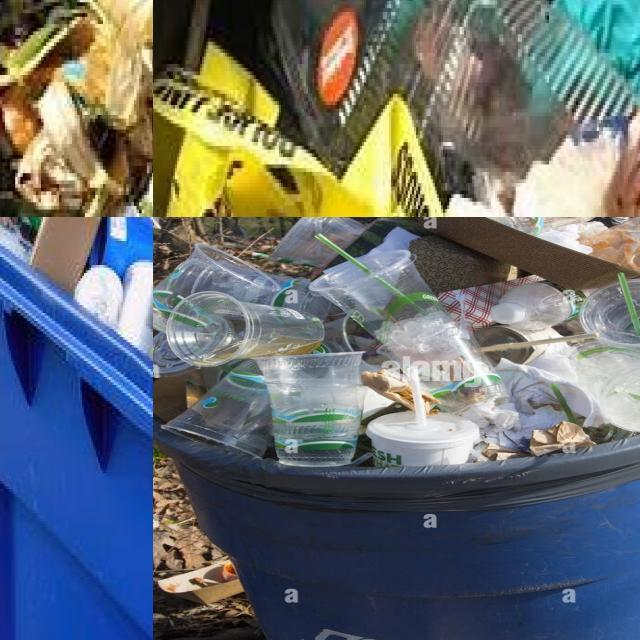Disposable: (270, 0, 632, 179), (312, 250, 490, 378), (153, 244, 332, 329), (254, 352, 367, 466), (164, 291, 325, 367), (164, 360, 272, 457), (367, 411, 480, 465), (413, 353, 506, 413), (576, 346, 640, 432), (272, 217, 365, 265), (581, 278, 640, 352), (583, 217, 640, 271), (153, 333, 197, 378), (473, 324, 561, 346), (485, 344, 553, 364)
Garbage: (153, 217, 640, 466), (153, 0, 640, 217), (0, 217, 153, 376)
Plastic: (153, 43, 447, 217)
Plastic_Bag: (511, 130, 621, 217), (552, 0, 640, 105), (607, 110, 640, 217)
Plastic_Container: (88, 217, 153, 277)
Plastic_Straw: (315, 233, 372, 275), (480, 333, 596, 352), (616, 272, 640, 338), (405, 363, 425, 427), (552, 383, 578, 425), (372, 275, 408, 299), (408, 299, 425, 314)
Plastic_bottle: (490, 282, 576, 329)
tin_box: (118, 261, 153, 353)
